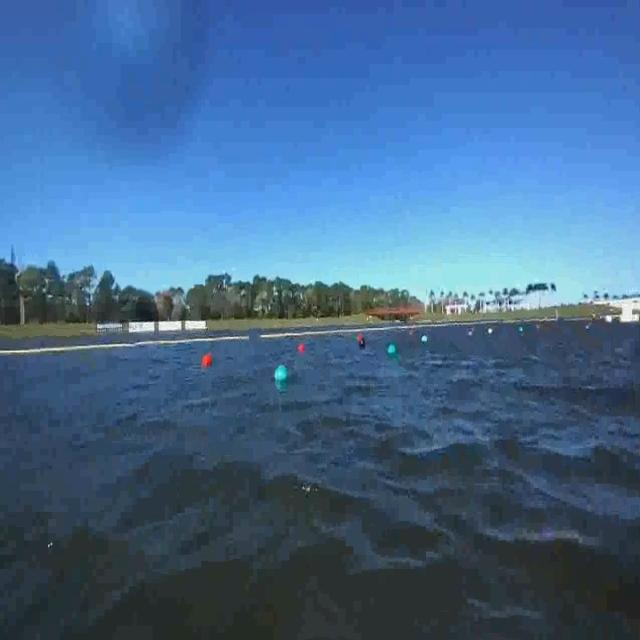green-buoy: (276, 364, 289, 382), (385, 343, 394, 358)
red-buoy: (202, 353, 214, 368), (297, 344, 305, 354)
